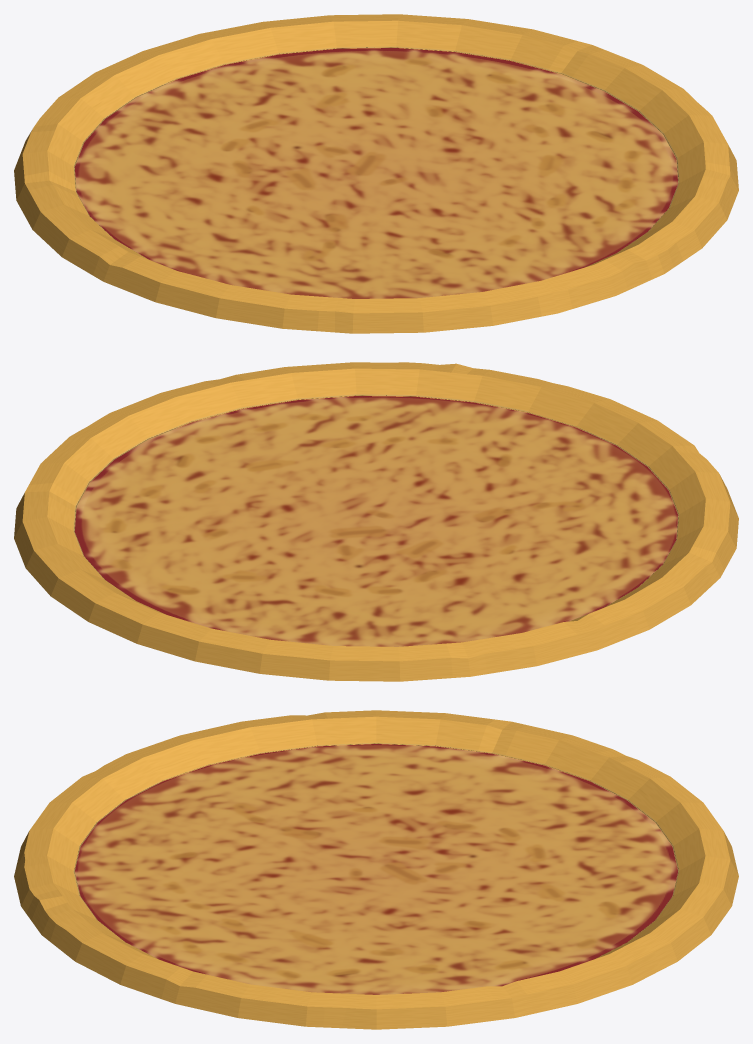
File: WorldItem_PizzaCheese.fbx
The picture shows the model from 3 angles, top to bottom: view 1: azimuth 30°, elevation 25°; view 2: azimuth 150°, elevation 25°; view 3: azimuth 270°, elevation 25°; orthographic projection.
Parts seen in each view (by area): view 1: Pizza; view 2: Pizza; view 3: Pizza.
Part boxes in pixels (left/top/right/bottom): Pizza: left=14, top=14, right=738, bottom=333; Pizza: left=14, top=362, right=738, bottom=681; Pizza: left=14, top=710, right=738, bottom=1029.
Size of the model in its own units: 45.79 by 2.22 by 45.79.
